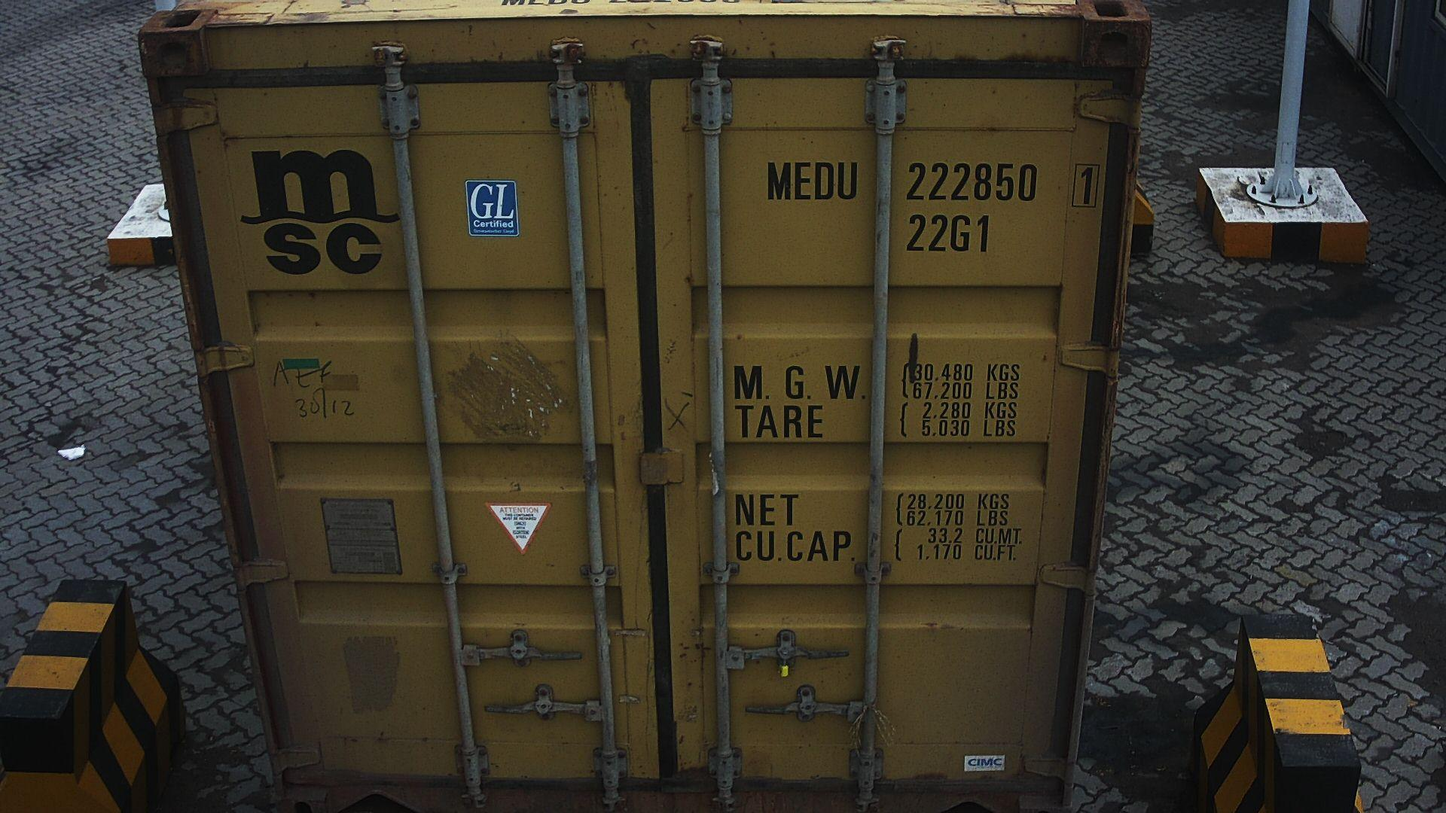container-numbers: (761, 157, 1105, 210), (903, 211, 995, 256)
